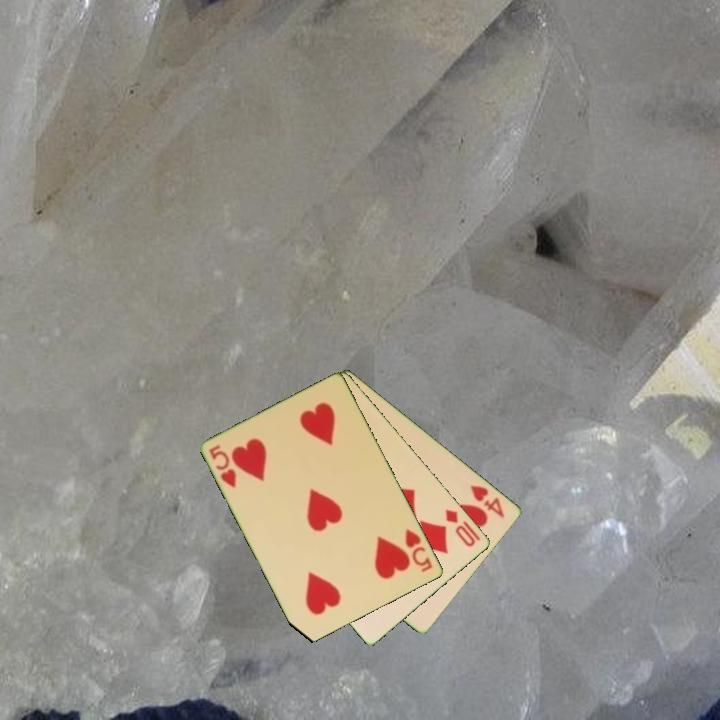10d: (442, 505, 479, 550)
4h: (467, 481, 508, 521)
5h: (402, 525, 436, 575), (206, 442, 240, 491)
